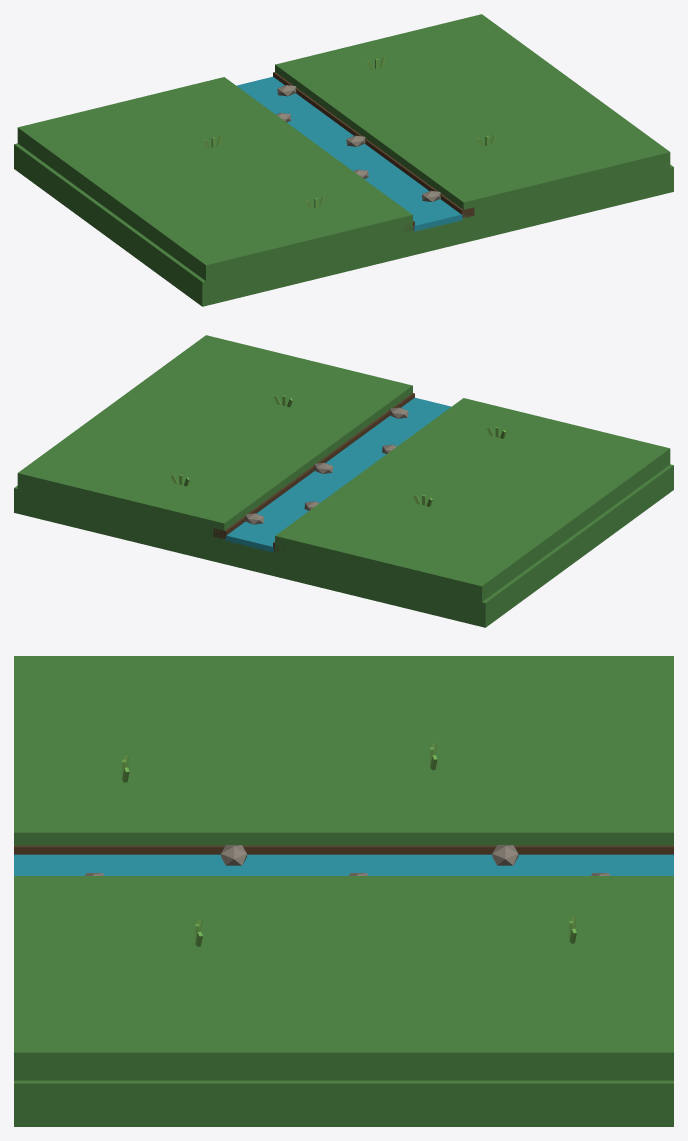
Rendered from small_ditch.glb.
3 renders of one model, top to bottom at view 1: azimuth 30°, elevation 25°; view 2: azimuth 150°, elevation 25°; view 3: azimuth 270°, elevation 25°, orthographic. The views are drawn at different scales.
Parts seen in each view (by area): view 1: LeftBank, RightBank, TerrainBase, DitchWater, MuddyEdge.001; view 2: LeftBank, RightBank, TerrainBase, DitchWater, MuddyEdge.001; view 3: RightBank, LeftBank, TerrainBase, DitchWater, MuddyEdge.
Part boxes in pixels (left/top/right/bottom): LeftBank: left=17, top=77, right=412, bottom=282; RightBank: left=275, top=14, right=670, bottom=219; TerrainBase: left=14, top=143, right=673, bottom=306; DitchWater: left=236, top=76, right=462, bottom=231; MuddyEdge.001: left=273, top=72, right=474, bottom=218; LeftBank: left=275, top=398, right=670, bottom=602; RightBank: left=17, top=335, right=412, bottom=540; TerrainBase: left=14, top=464, right=673, bottom=627; DitchWater: left=225, top=397, right=451, bottom=552; MuddyEdge.001: left=213, top=393, right=414, bottom=539; RightBank: left=14, top=876, right=673, bottom=1080; LeftBank: left=14, top=656, right=673, bottom=845; TerrainBase: left=14, top=1080, right=673, bottom=1126; DitchWater: left=14, top=854, right=673, bottom=875; MuddyEdge: left=14, top=845, right=673, bottom=854.
Size of the model in its own units: 13 by 1.31 by 9.
